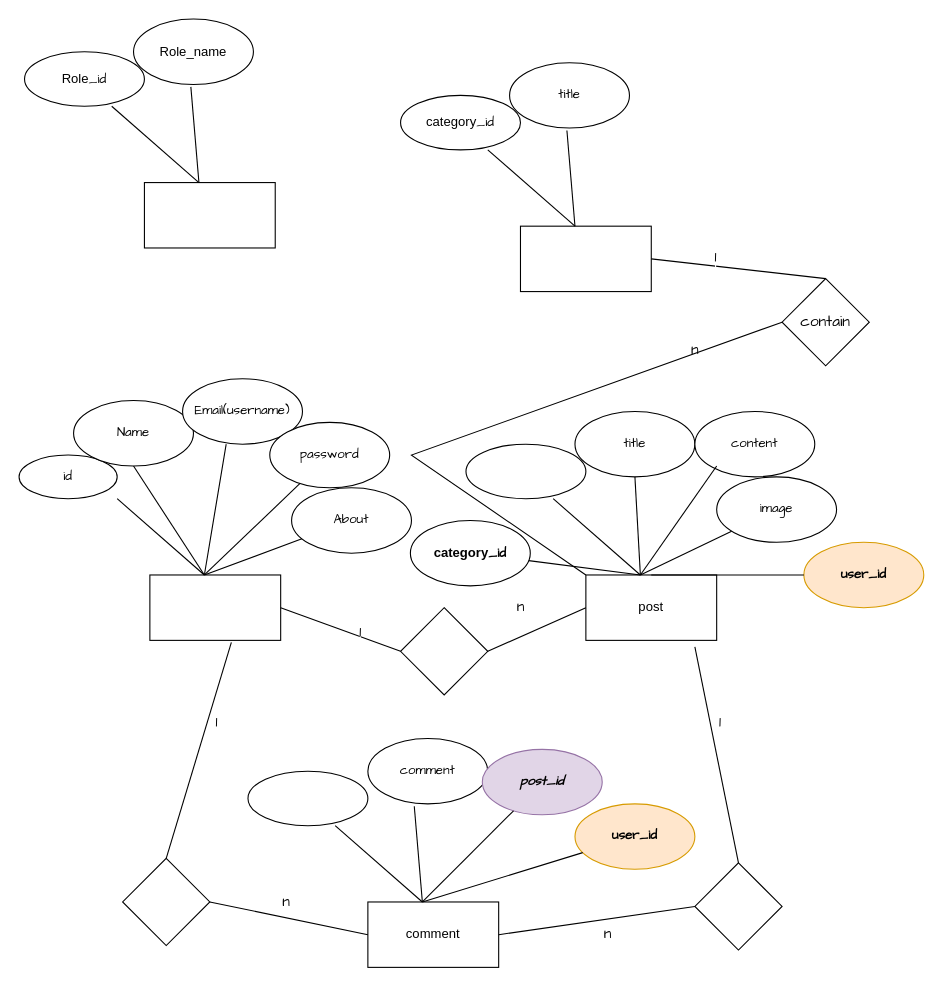
The diagram is 943 pixels wide and 986 high, and some of its shapes have lost their labels. Here are the shapes that lost their labels. From the top down, the centre of each, then its label:
At point 209,214: "Role".
At point 585,258: "category".
At point 525,471: "p_id".
At point 215,607: "user".
At point 443,651: "can create".
At point 307,798: "comment_id".
At point 166,901: "do".
At point 738,906: "have".
